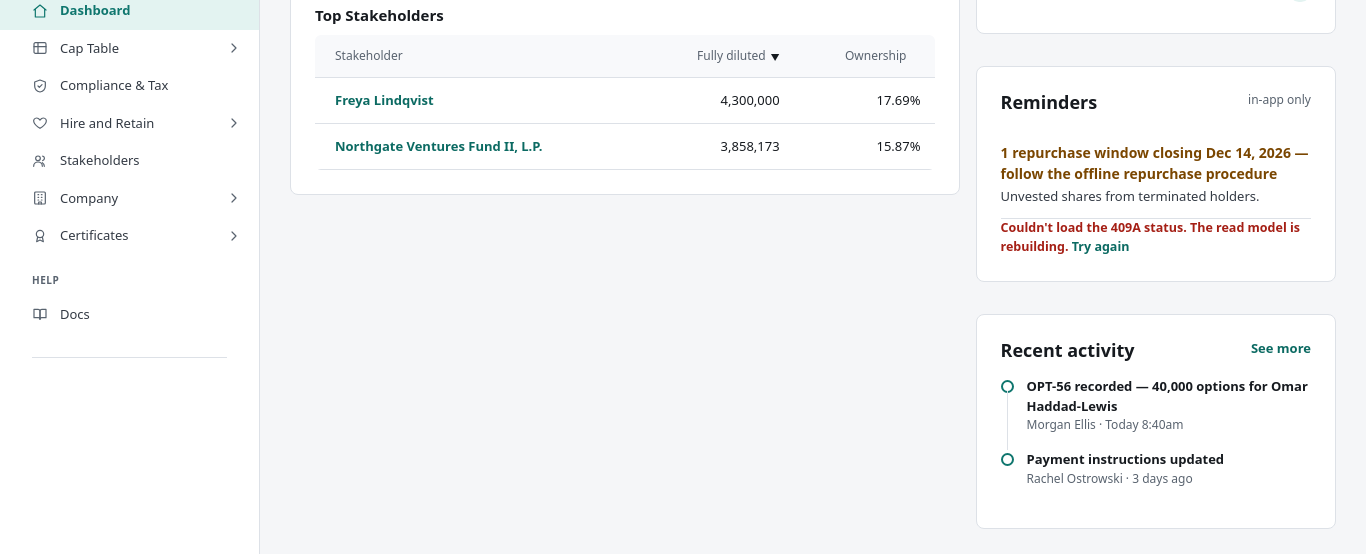
Scenario: dashboard and reference pages › says the 409A status is unknown when the valuations fail, never "No reminders"
(page scrolled)
Click the button "Try again".
click(1101, 247)  # box [1072, 238, 1130, 257]
(page scrolled)
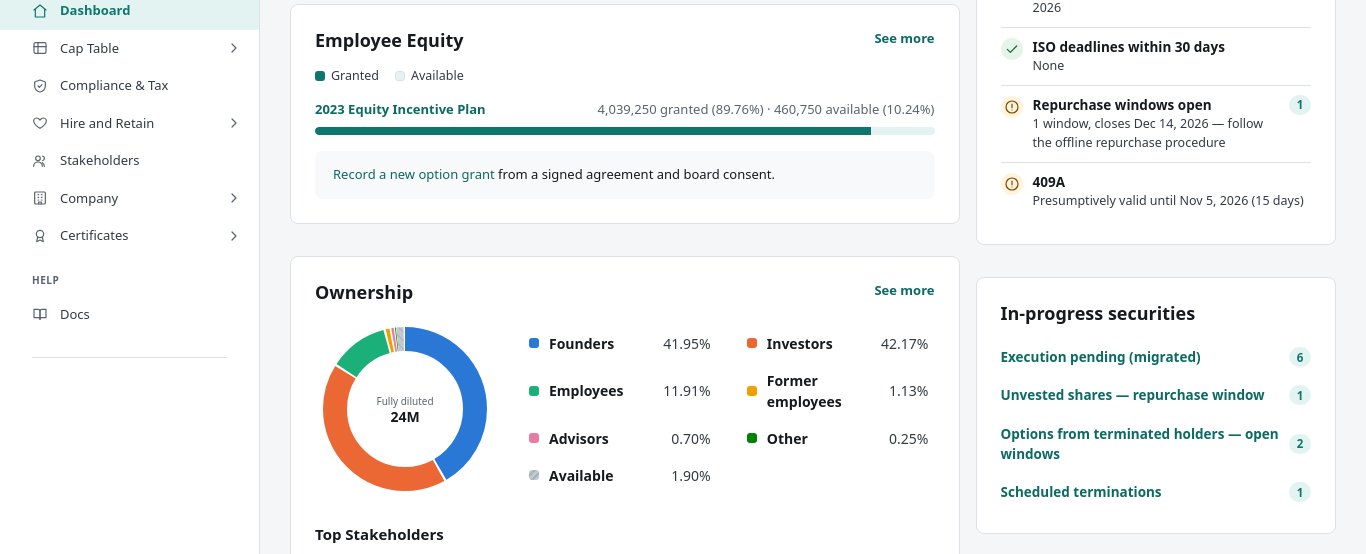
Result: the text "Presumptively valid until Nov 5, 2026 (15 days)" is shown at [1032, 192, 1311, 211]
